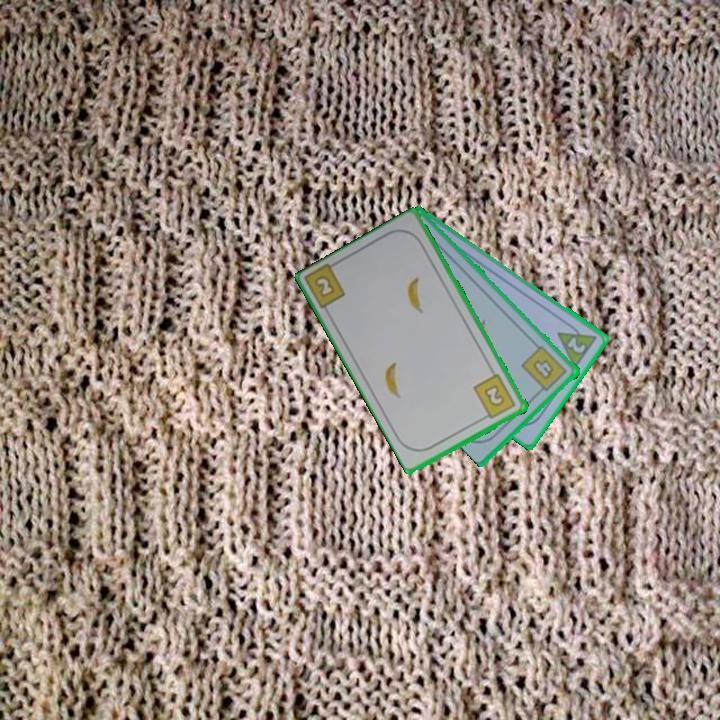2b: (470, 371, 519, 423), (311, 272, 338, 301)
2p: (554, 318, 600, 371)
4b: (518, 342, 570, 397)
